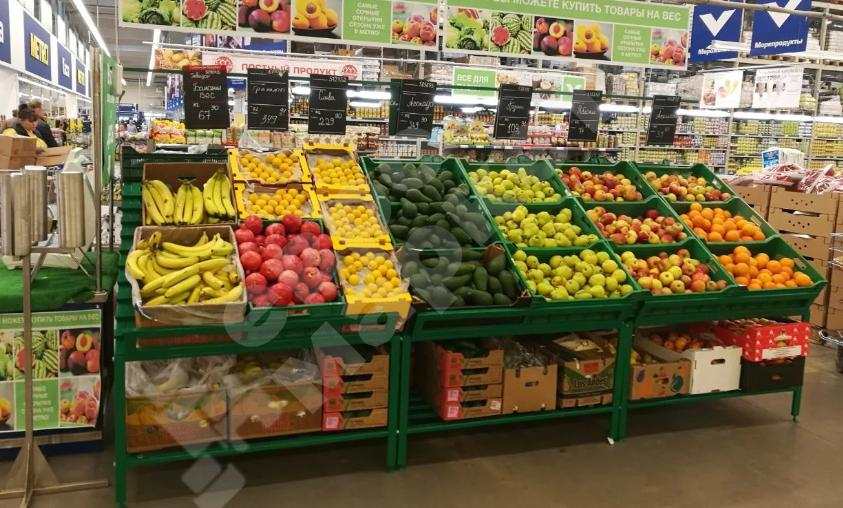banana: (128, 231, 244, 306), (141, 167, 236, 227)
green apple: (514, 248, 632, 301), (494, 204, 598, 248), (468, 168, 562, 204)
mandarin: (714, 245, 814, 292), (680, 203, 766, 241)
pomegranate: (238, 214, 334, 308)
red apple: (622, 250, 728, 294), (585, 208, 688, 244), (554, 166, 643, 202), (646, 172, 732, 202)
